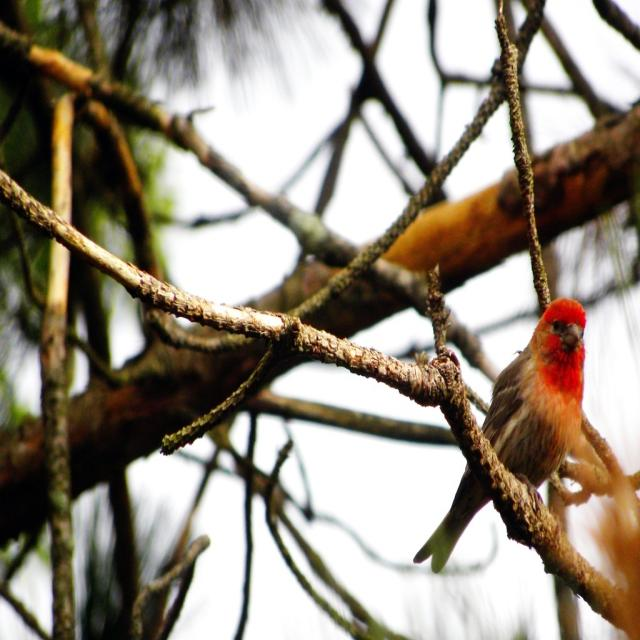bird: (483, 296, 592, 536)
